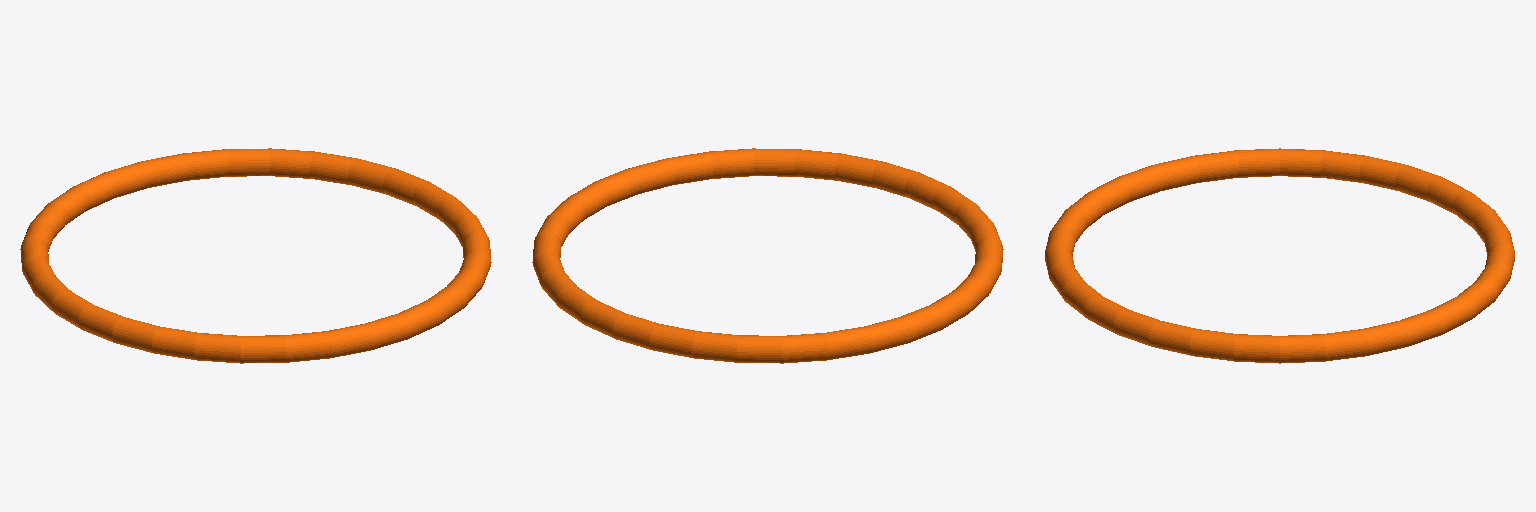
The robot description file, URDF, robot "gate":
<?xml version="1.0"?>
<robot name="gate">
  <link name="ring">
    <visual>
      <origin xyz="0 0 0" rpy="0 0 0"/>
      <geometry><mesh filename="gate_ring.obj"/></geometry>
      <material name="orange"><color rgba="1.0 0.5 0.1 1.0"/></material>
    </visual>
    <collision>
      <origin xyz="0 0 0" rpy="0 0 0"/>
      <geometry><mesh filename="gate_ring.obj"/></geometry>
    </collision>
    <inertial>
      <mass value="1.0"/>
      <inertia ixx="1" ixy="0" ixz="0" iyy="1" iyz="0" izz="1"/>
    </inertial>
  </link>
</robot>

--- Facts derived from the render (not from the file) ---
The picture shows the robot from 3 angles, left to right: view 1: azimuth 30°, elevation 25°; view 2: azimuth 150°, elevation 25°; view 3: azimuth 270°, elevation 25°; orthographic projection.
Robot: gate — 1 links, 0 joints (none); root link ring; default pose: all joints at 0.
Visible links, largest first — view 1: ring; view 2: ring; view 3: ring.
Boxes of the visible links, box(x1,y1,x2,y2) form: ring: box(20, 148, 491, 363); ring: box(532, 148, 1003, 363); ring: box(1045, 148, 1514, 363).
Size in the robot's own frame: 1.7 by 1.7 by 0.1 metres.
Meshes: 1 distinct files referenced, 1 mesh visuals loaded (1 OBJ).
